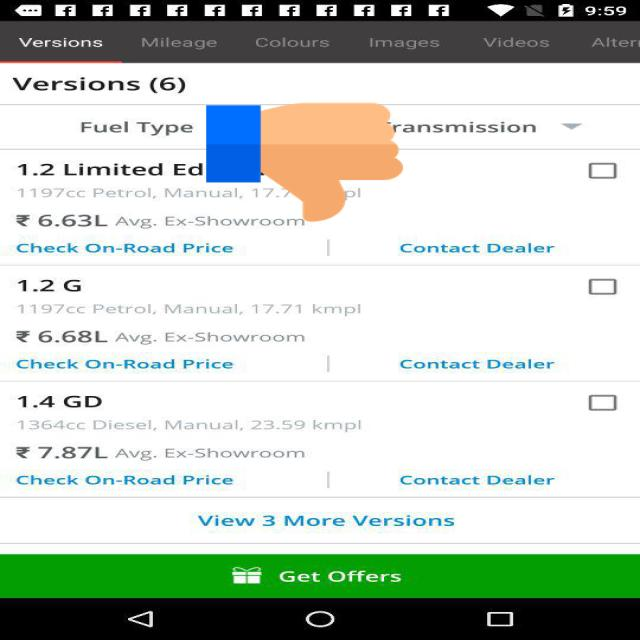obstruction: (206, 100, 403, 225)
